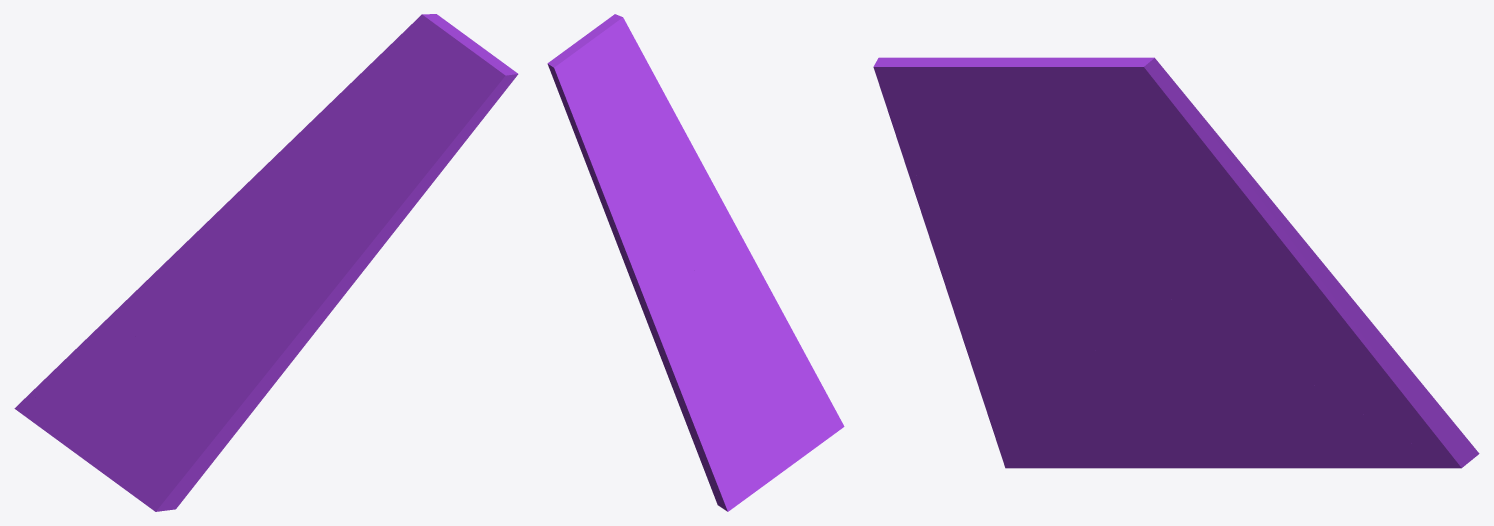
File: Window_62_chunks.fbx
3 views of the same model, side by side, from view 1: azimuth 30°, elevation 25°; view 2: azimuth 150°, elevation 25°; view 3: azimuth 270°, elevation 25° (orthographic). The views are drawn at different scales.
Visible parts, largest first — view 1: Window_62_10, Window_62_8, Window_62_2, Window_62_12, Window_62_7, Window_62_6, Window_62_14, Window_62_11, Window_62_15, Window_62_3, Window_62_1, Window_62_17 (+2 smaller); view 2: Window_62_10, Window_62_8, Window_62_7, Window_62_2, Window_62_12, Window_62_6, Window_62_11, Window_62_14, Window_62_15, Window_62_3, Window_62_4, Window_62_17 (+2 smaller); view 3: Window_62_10, Window_62_7, Window_62_8, Window_62_12, Window_62_6, Window_62_2, Window_62_1, Window_62_11, Window_62_3, Window_62_14, Window_62_4, Window_62_15 (+7 smaller).
Part boxes in pixels (x1,y1,x2,y2): Window_62_10: [356, 14, 518, 190]; Window_62_8: [278, 159, 425, 303]; Window_62_2: [214, 249, 336, 400]; Window_62_12: [16, 334, 195, 429]; Window_62_7: [196, 110, 322, 293]; Window_62_6: [14, 266, 204, 409]; Window_62_14: [155, 339, 217, 498]; Window_62_11: [281, 72, 362, 239]; Window_62_15: [43, 407, 141, 485]; Window_62_3: [139, 254, 269, 340]; Window_62_1: [178, 366, 268, 505]; Window_62_17: [120, 457, 180, 511]; Window_62_10: [547, 14, 676, 161]; Window_62_8: [642, 117, 735, 251]; Window_62_7: [592, 175, 697, 323]; Window_62_2: [686, 226, 787, 334]; Window_62_12: [709, 345, 764, 510]; Window_62_6: [664, 323, 729, 511]; Window_62_11: [576, 132, 679, 246]; Window_62_14: [728, 330, 831, 404]; Window_62_15: [751, 409, 814, 494]; Window_62_3: [687, 259, 734, 388]; Window_62_4: [627, 267, 674, 366]; Window_62_17: [800, 401, 844, 447]; Window_62_10: [873, 57, 1201, 183]; Window_62_7: [1135, 154, 1299, 321]; Window_62_8: [909, 175, 1124, 279]; Window_62_12: [1174, 366, 1452, 468]; Window_62_6: [1233, 320, 1479, 468]; Window_62_2: [943, 274, 1125, 359]; Window_62_1: [969, 348, 1140, 465]; Window_62_11: [1089, 115, 1233, 262]; Window_62_3: [1122, 279, 1319, 388]; Window_62_14: [1015, 359, 1177, 457]; Window_62_4: [1279, 235, 1369, 341]; Window_62_15: [1133, 441, 1338, 468].
Bounding box in the file's own units: 824 × 960 × 818.
